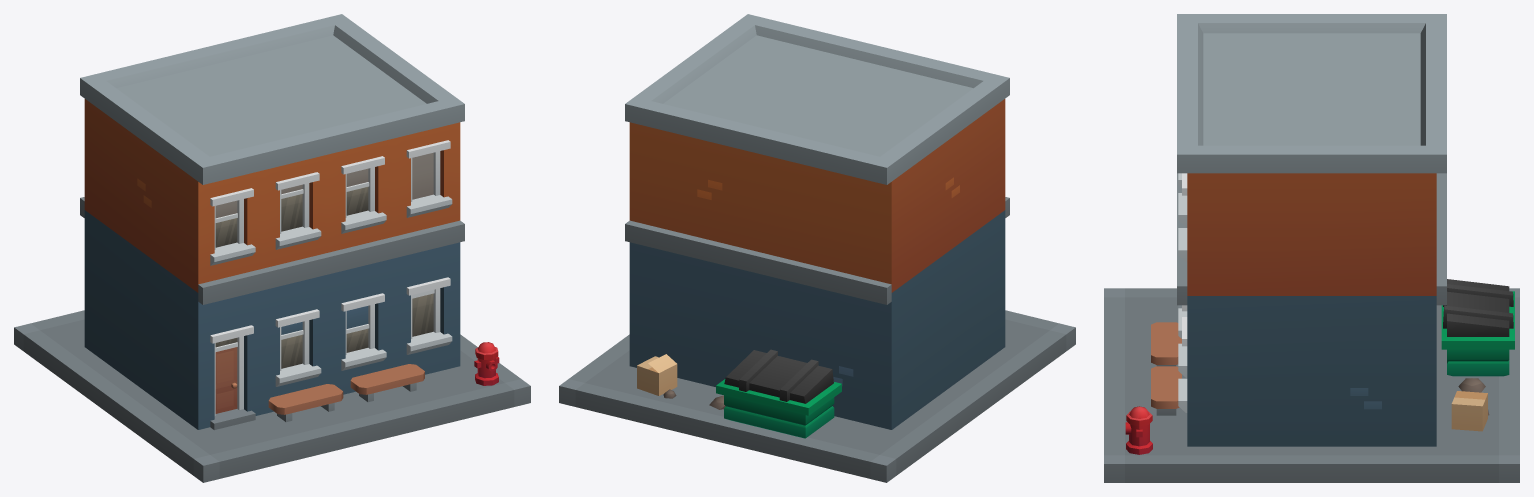
Rendered from building-B.glb.
3 renders of one model, left to right at view 1: azimuth 30°, elevation 25°; view 2: azimuth 150°, elevation 25°; view 3: azimuth 270°, elevation 25°, orthographic. The views are drawn at different scales.
Visible parts, largest first — view 1: building_B; view 2: building_B; view 3: building_B.
Part boxes in pixels (bbox=[...]): building_B: bbox=[14, 14, 530, 482]; building_B: bbox=[559, 14, 1075, 482]; building_B: bbox=[1104, 14, 1519, 482].
Bounding box in the file's own units: 2 × 1.65 × 2.
1 material, 1 textured.
